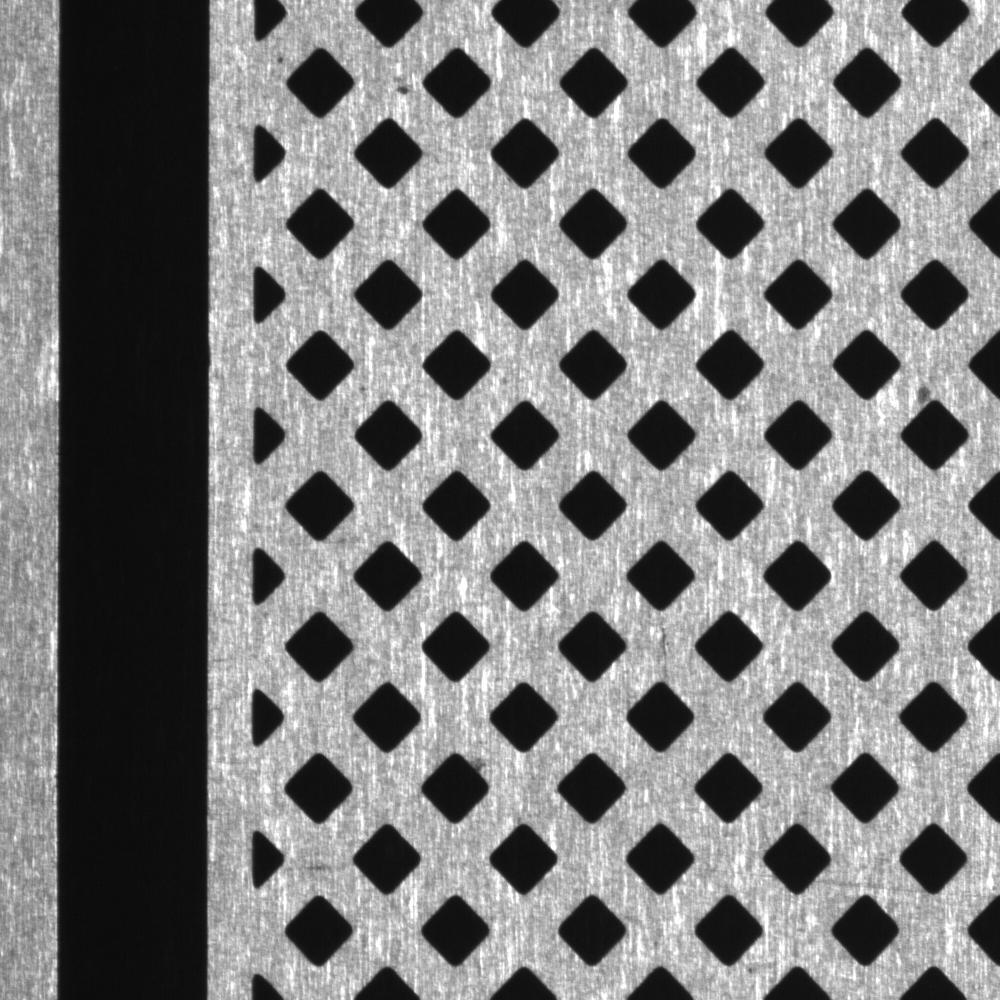Discolor: (908, 369, 943, 412)
Etching: (381, 66, 419, 108)
Scar: (642, 615, 688, 681)
